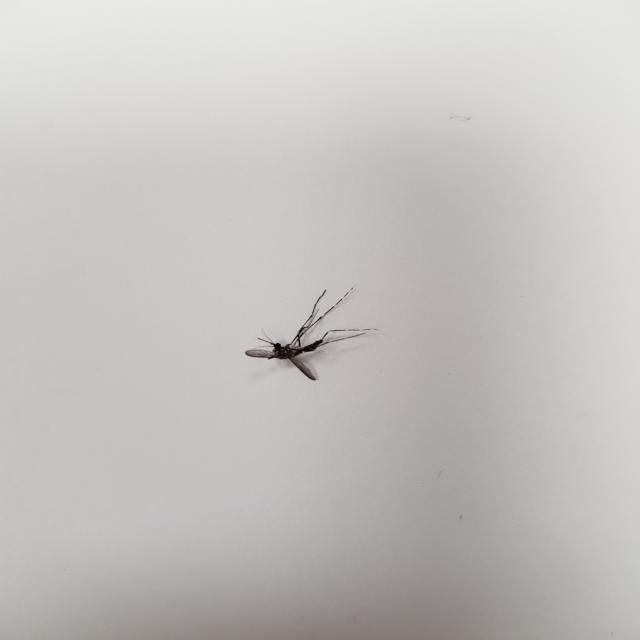albopictus: (244, 279, 381, 382)
